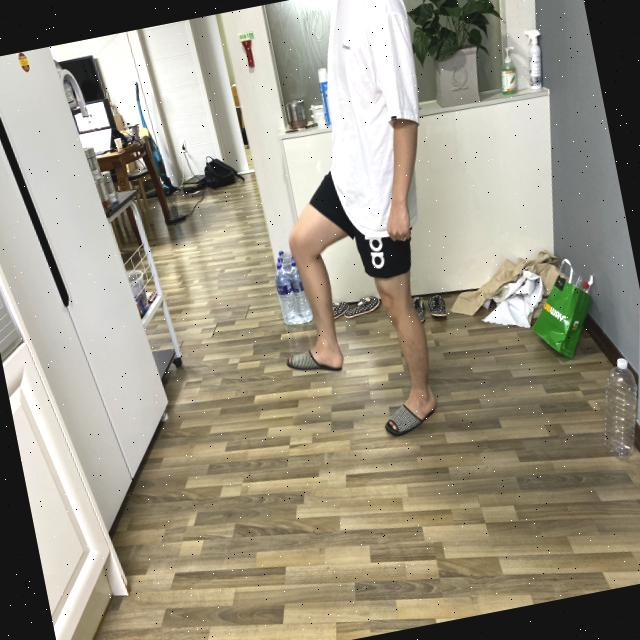no-boots: (374, 369, 452, 446), (281, 324, 350, 398)
